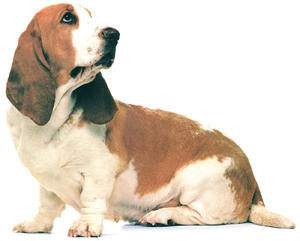dog: (6, 2, 132, 106)
